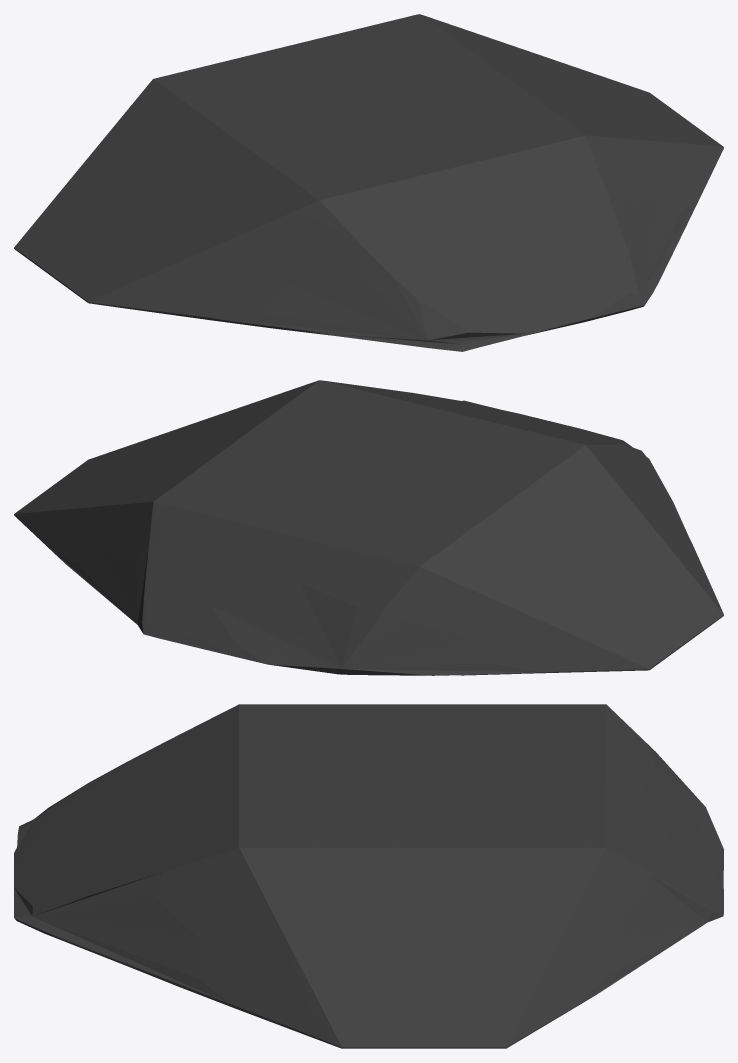
3 renders of one model, top to bottom at view 1: azimuth 30°, elevation 25°; view 2: azimuth 150°, elevation 25°; view 3: azimuth 270°, elevation 25°, orthographic. The views are drawn at different scales.
Visible parts, largest first — view 1: world; view 2: world; view 3: world.
Part boxes in pixels (x1,y1,x2,y2): world: (14, 14, 723, 351); world: (14, 380, 723, 675); world: (14, 704, 723, 1048).
Size of the model in its own units: 404 by 96.19 by 354.
Materials: 1 (1 with a texture image).
